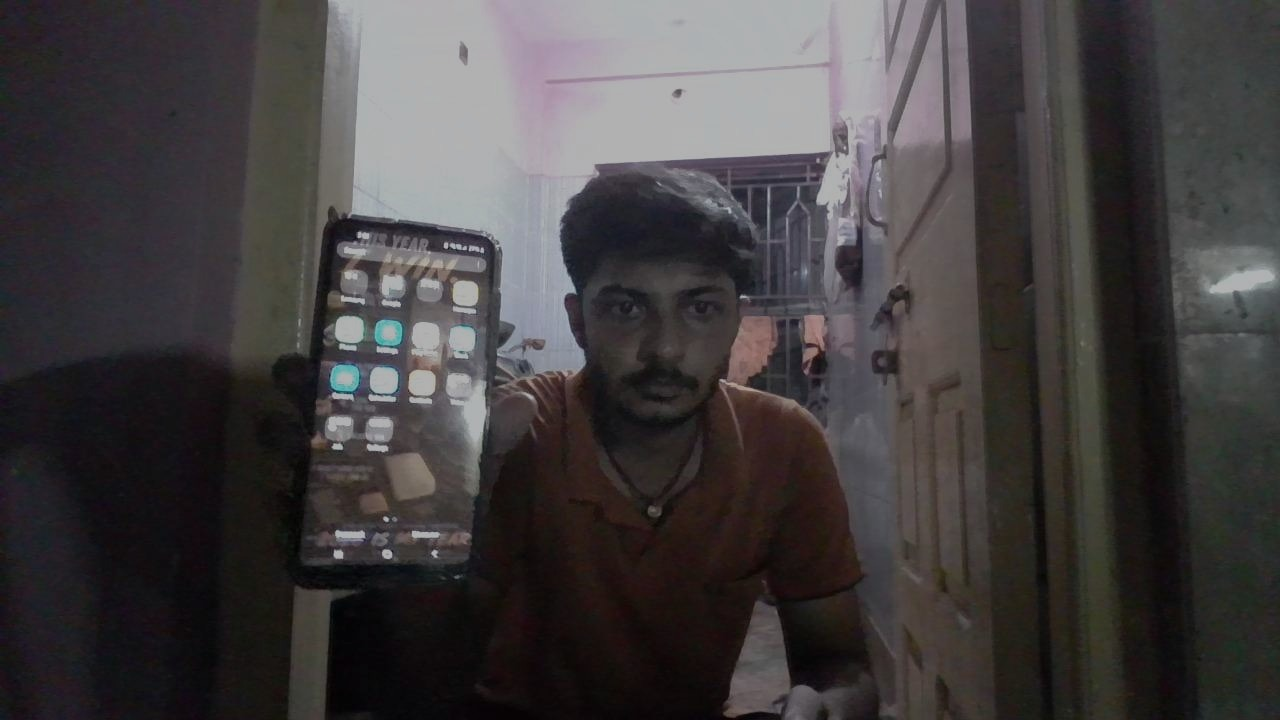red_box: (672, 394, 862, 585), (545, 420, 650, 537)
